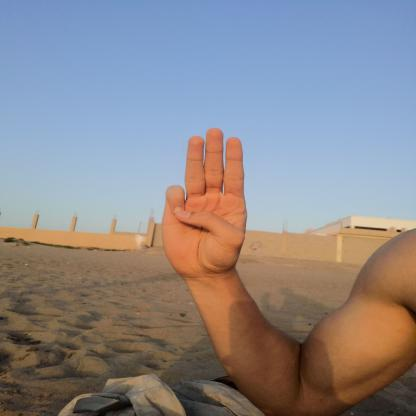THA: (148, 116, 263, 286)
